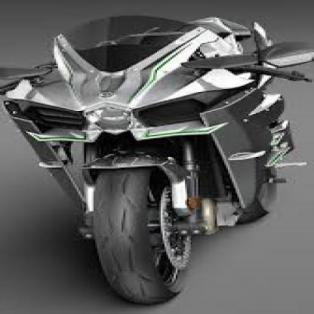Motocicleta: (0, 0, 312, 313)
